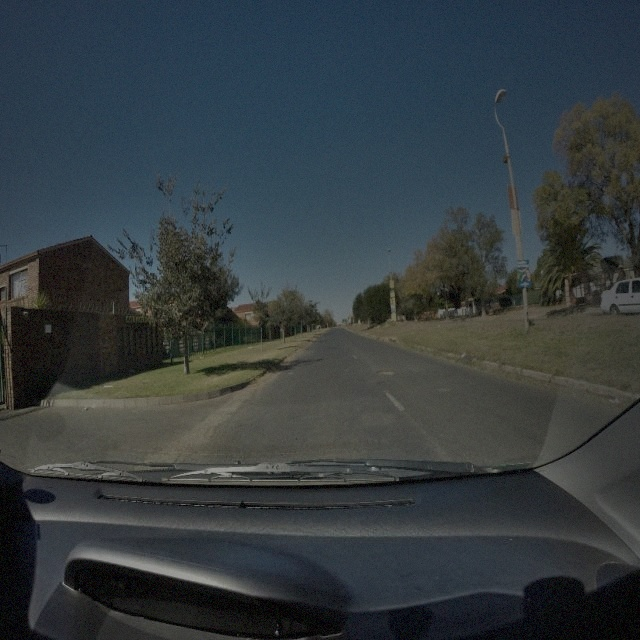pothole: (375, 366, 394, 378)
